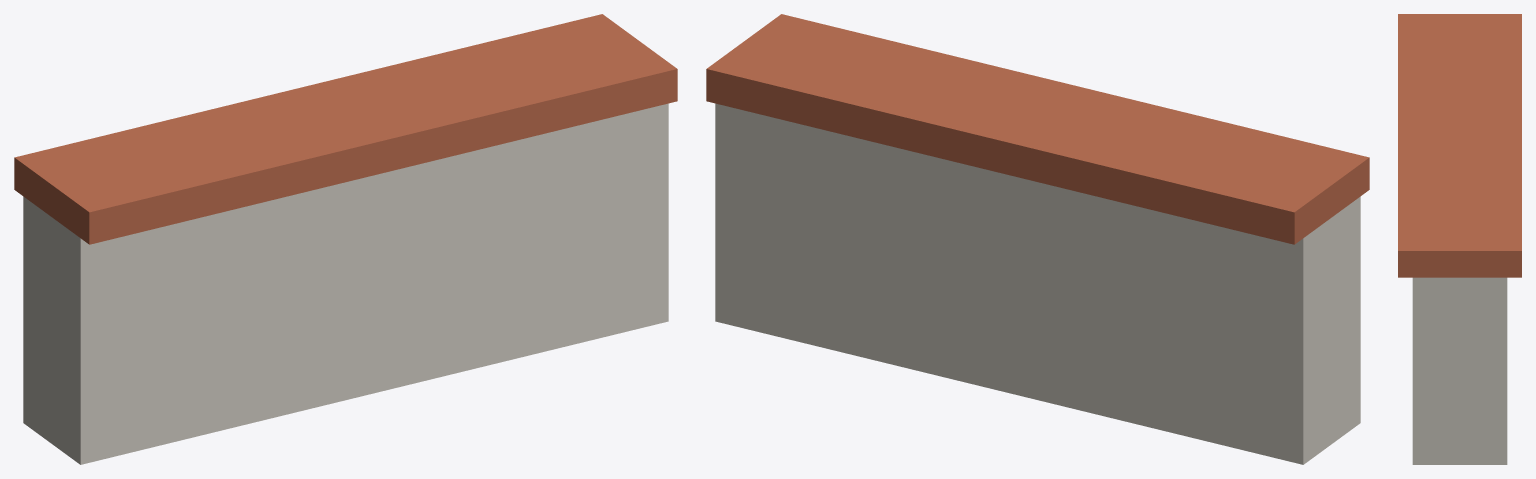
File: muro_bajo.fbx
The picture shows the model from 3 angles, left to right: view 1: azimuth 30°, elevation 25°; view 2: azimuth 150°, elevation 25°; view 3: azimuth 270°, elevation 25°; orthographic projection. The views are drawn at different scales.
Parts seen in each view (by area): view 1: wallLow, wallCap; view 2: wallLow, wallCap; view 3: wallCap, wallLow.
Boxes of the visible parts, bbox=[...] form: wallLow: bbox=[23, 103, 668, 464]; wallCap: bbox=[14, 14, 677, 244]; wallLow: bbox=[715, 103, 1360, 464]; wallCap: bbox=[706, 14, 1369, 244]; wallCap: bbox=[1398, 14, 1521, 277]; wallLow: bbox=[1412, 277, 1507, 464].
Bounding box in the file's own units: 1.9 × 0.8 × 0.42.
